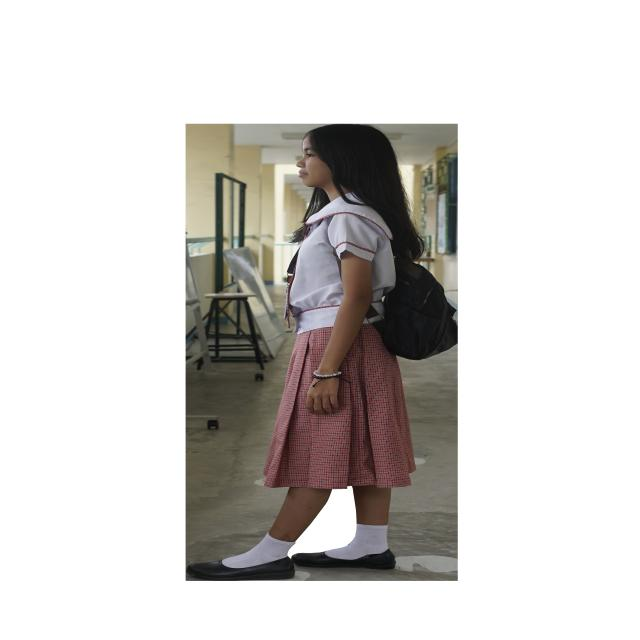pologirl: (288, 193, 396, 333)
shoes: (186, 549, 396, 581)
skirt: (263, 324, 415, 489)
